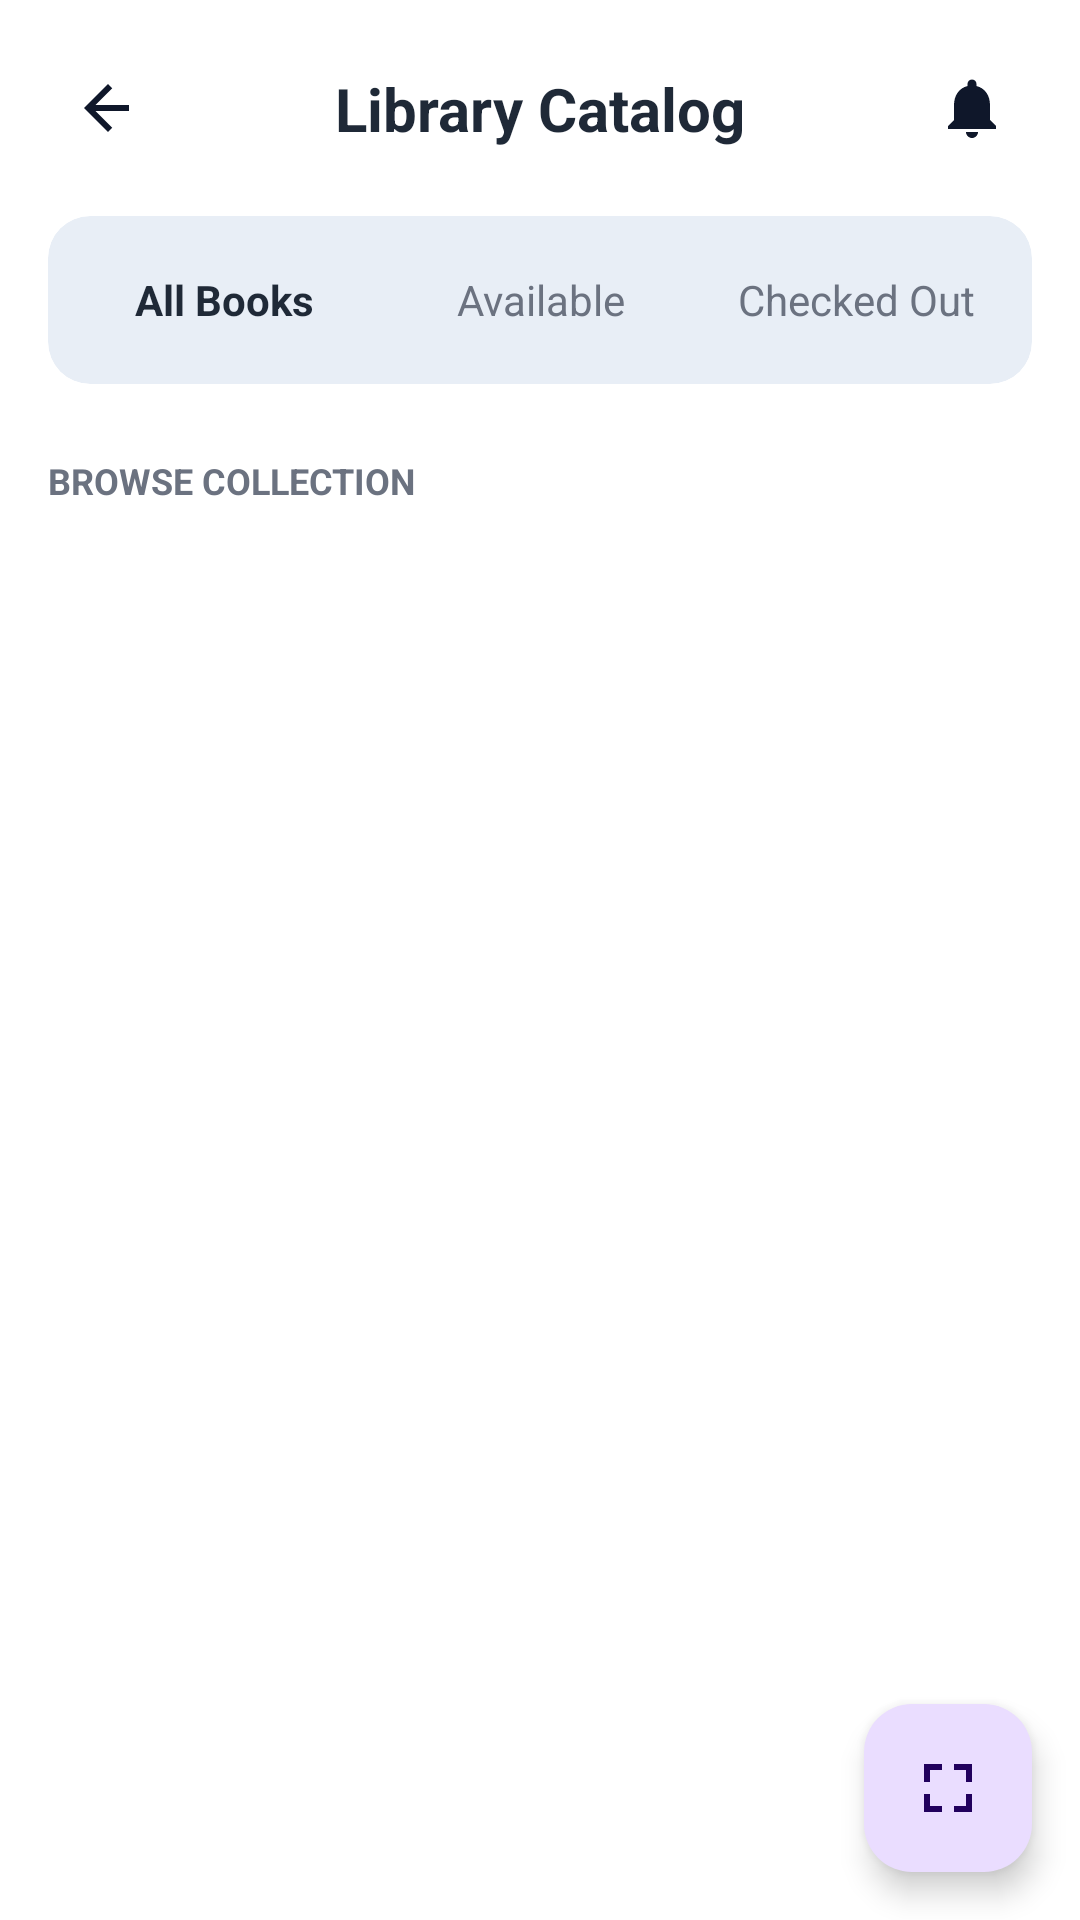

Where to tap for icons on this 1080w x 1920h app screen, as [x,y]:
back: [106,108]
notification: [972,108]
scan: [948,1788]
